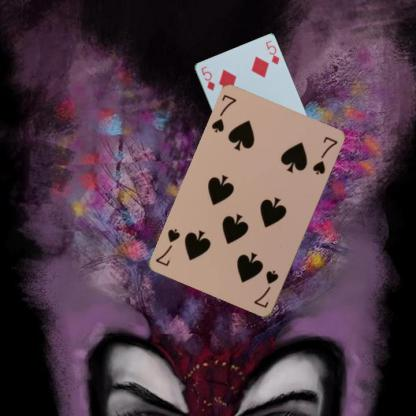5d: (198, 63, 216, 92)
7s: (251, 268, 280, 310), (209, 92, 238, 134)
